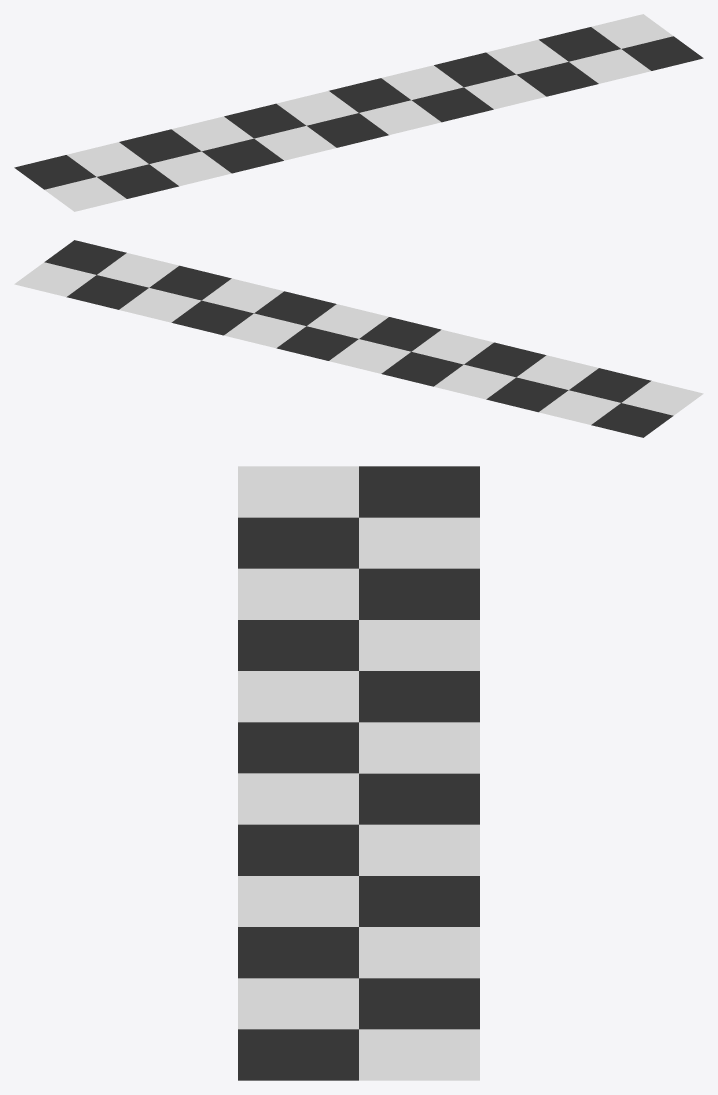
File: Finish_Line_01.fbx
3 views of the same model, one above another, from view 1: azimuth 30°, elevation 25°; view 2: azimuth 150°, elevation 25°; view 3: azimuth 270°, elevation 25° (orthographic). The views are drawn at different scales.
Visible parts, largest first — view 1: Finish_Line_01; view 2: Finish_Line_01; view 3: Finish_Line_01.
Part boxes in pixels (box(x1,y1,x2,y2)): Finish_Line_01: box(14, 14, 703, 211); Finish_Line_01: box(14, 240, 703, 437); Finish_Line_01: box(238, 466, 479, 1080).
Size of the model in its own units: 1200 by 200 by 4.19e-22.
